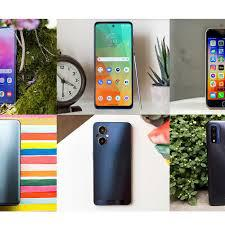Smartphone: (92, 22, 133, 111), (93, 121, 129, 206), (0, 120, 22, 203), (205, 121, 225, 210), (203, 29, 225, 107), (0, 33, 18, 102)
